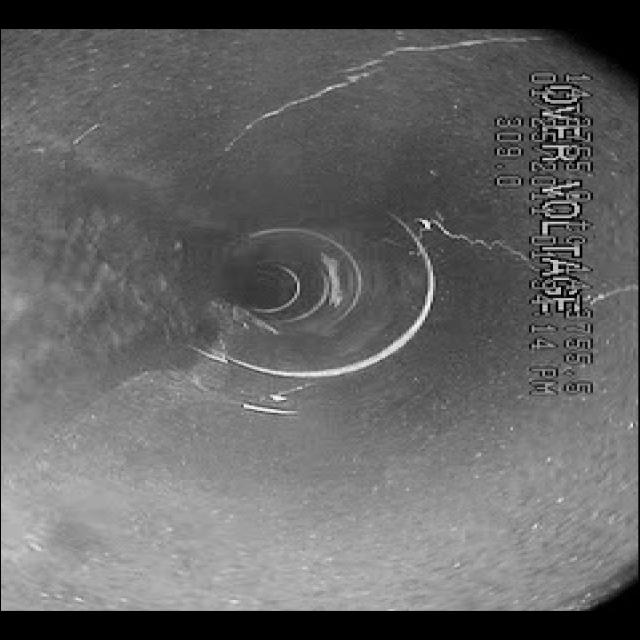Crack: (243, 35, 477, 129)
